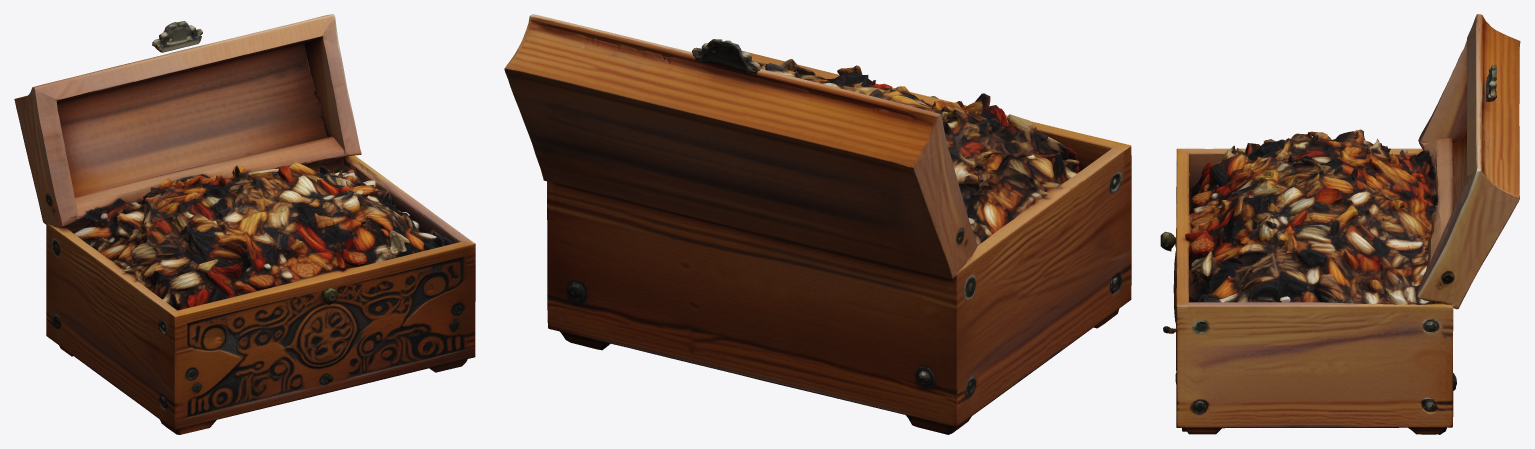
File: wooden-tea-box-rustic.jpeg.glb
3 renders of one model, left to right at view 1: azimuth 30°, elevation 25°; view 2: azimuth 150°, elevation 25°; view 3: azimuth 270°, elevation 25°, orthographic. The views are drawn at different scales.
Visible parts, largest first — view 1: world; view 2: world; view 3: world.
Boxes of the visible parts, <box> form: world: <box>14,14,475,434</box>; world: <box>504,14,1131,434</box>; world: <box>1160,14,1520,434</box>.
Bounding box in the file's own units: 1 × 0.873 × 0.9667.
1 material, 1 textured.
